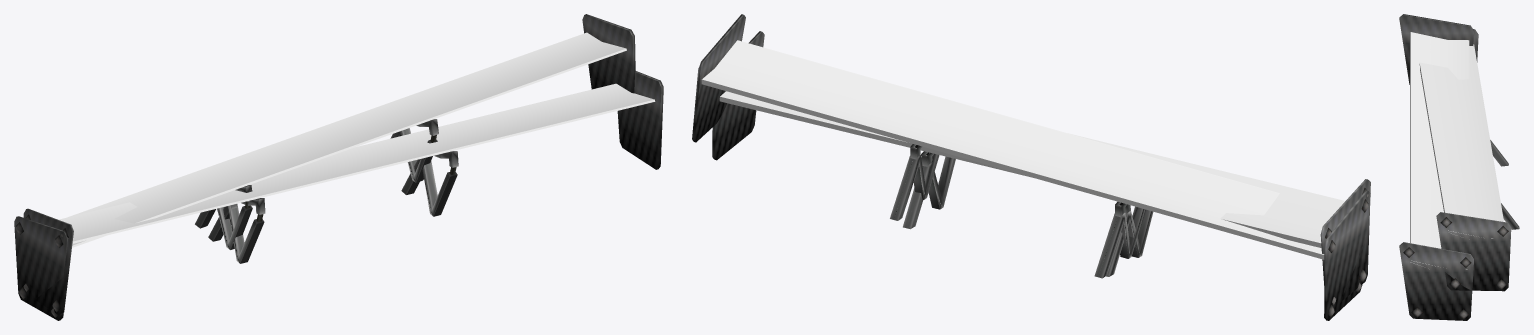
Rendered from spl_c_s_b.glb.
3 views of the same model, side by side, from view 1: azimuth 30°, elevation 25°; view 2: azimuth 150°, elevation 25°; view 3: azimuth 270°, elevation 25° (orthographic). The views are drawn at different scales.
Visible parts, largest first — view 1: spl_c_s_b_dam, spl_c_s_b; view 2: spl_c_s_b_dam, spl_c_s_b; view 3: spl_c_s_b_dam, spl_c_s_b.
Boxes of the visible parts, x1,y1,x2,y2 form: spl_c_s_b_dam: (14, 14, 635, 320); spl_c_s_b: (23, 71, 663, 315); spl_c_s_b_dam: (692, 14, 1370, 320); spl_c_s_b: (712, 31, 1370, 304); spl_c_s_b_dam: (1409, 29, 1519, 291); spl_c_s_b: (1399, 14, 1473, 320).
Size of the model in its own units: 1.92 by 0.4212 by 0.4142.
Materials: 2 (2 with a texture image).
